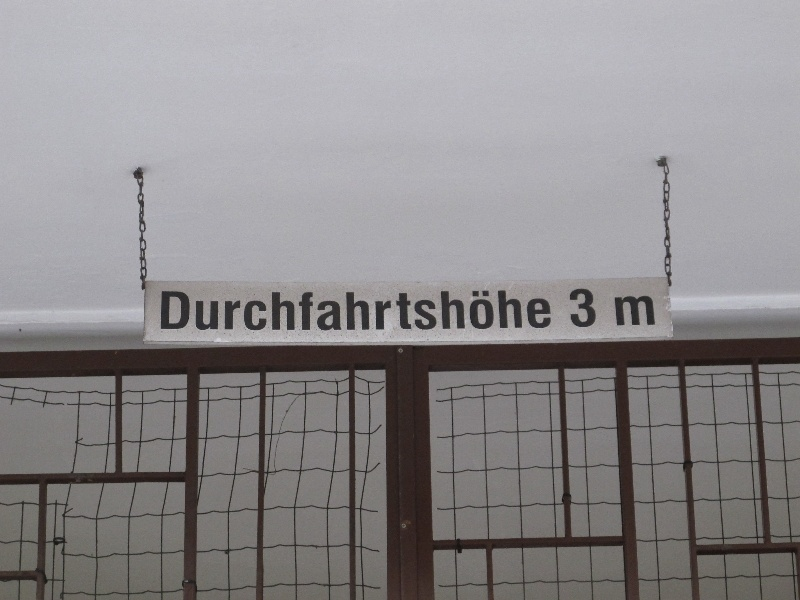text: (161, 289, 176, 332), (177, 289, 192, 332), (193, 289, 208, 332), (209, 289, 224, 332), (225, 289, 240, 332), (241, 289, 256, 332), (257, 289, 272, 332), (273, 289, 288, 332), (289, 289, 304, 332), (305, 289, 320, 332), (321, 289, 336, 332), (337, 289, 352, 332), (353, 289, 368, 332), (369, 289, 384, 332), (385, 289, 400, 332), (401, 289, 416, 332), (417, 289, 432, 332), (433, 289, 448, 332), (449, 289, 464, 332), (465, 289, 480, 332), (481, 289, 496, 332), (497, 289, 512, 332), (513, 289, 528, 332), (529, 289, 544, 332), (577, 287, 592, 329), (625, 296, 640, 327), (641, 296, 656, 327), (545, 289, 554, 332), (615, 296, 624, 327), (570, 287, 576, 329), (593, 287, 597, 329)
